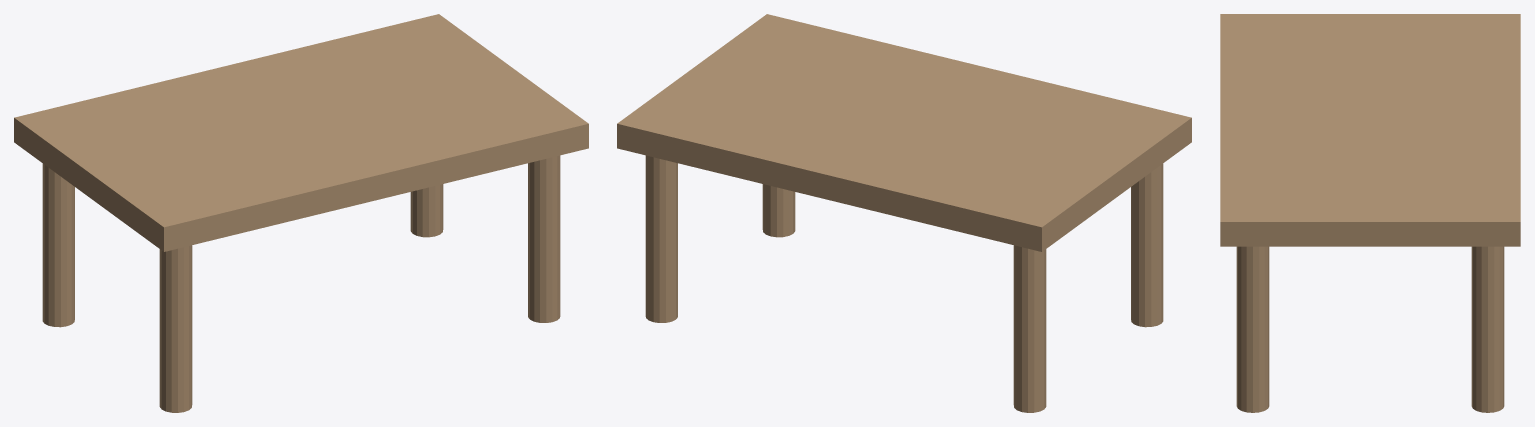
The model's file is coffee_table.glb.
The picture shows the model from 3 angles, left to right: view 1: azimuth 30°, elevation 25°; view 2: azimuth 150°, elevation 25°; view 3: azimuth 270°, elevation 25°; orthographic projection.
Visible parts, largest first — view 1: CoffeeTable; view 2: CoffeeTable; view 3: CoffeeTable.
Part boxes in pixels (x1,y1,x2,y2): CoffeeTable: [14, 14, 588, 412]; CoffeeTable: [617, 14, 1191, 412]; CoffeeTable: [1220, 14, 1520, 412].
Size of the model in its own units: 0.9 by 0.4 by 0.55.
